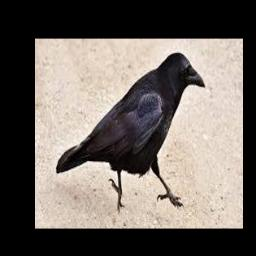Crow: (56, 52, 206, 211)
